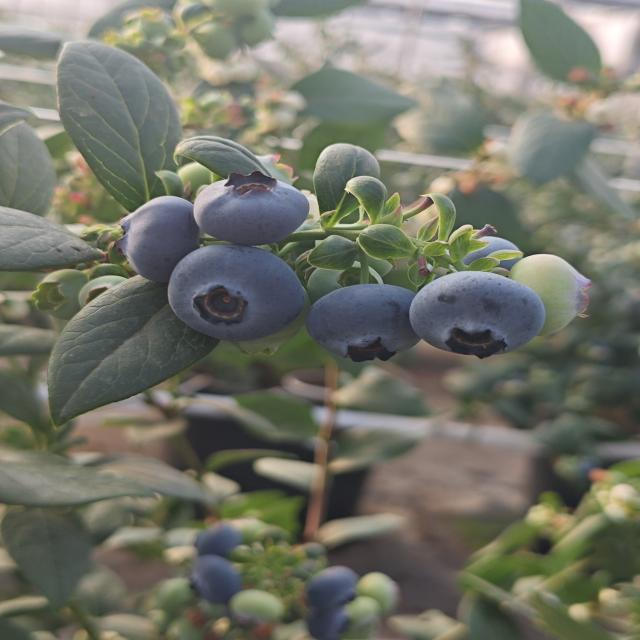ripe: (164, 240, 308, 342), (404, 268, 543, 358), (304, 279, 434, 364), (190, 170, 314, 248), (112, 192, 203, 276), (416, 228, 531, 284), (186, 516, 251, 608), (299, 560, 366, 640)
